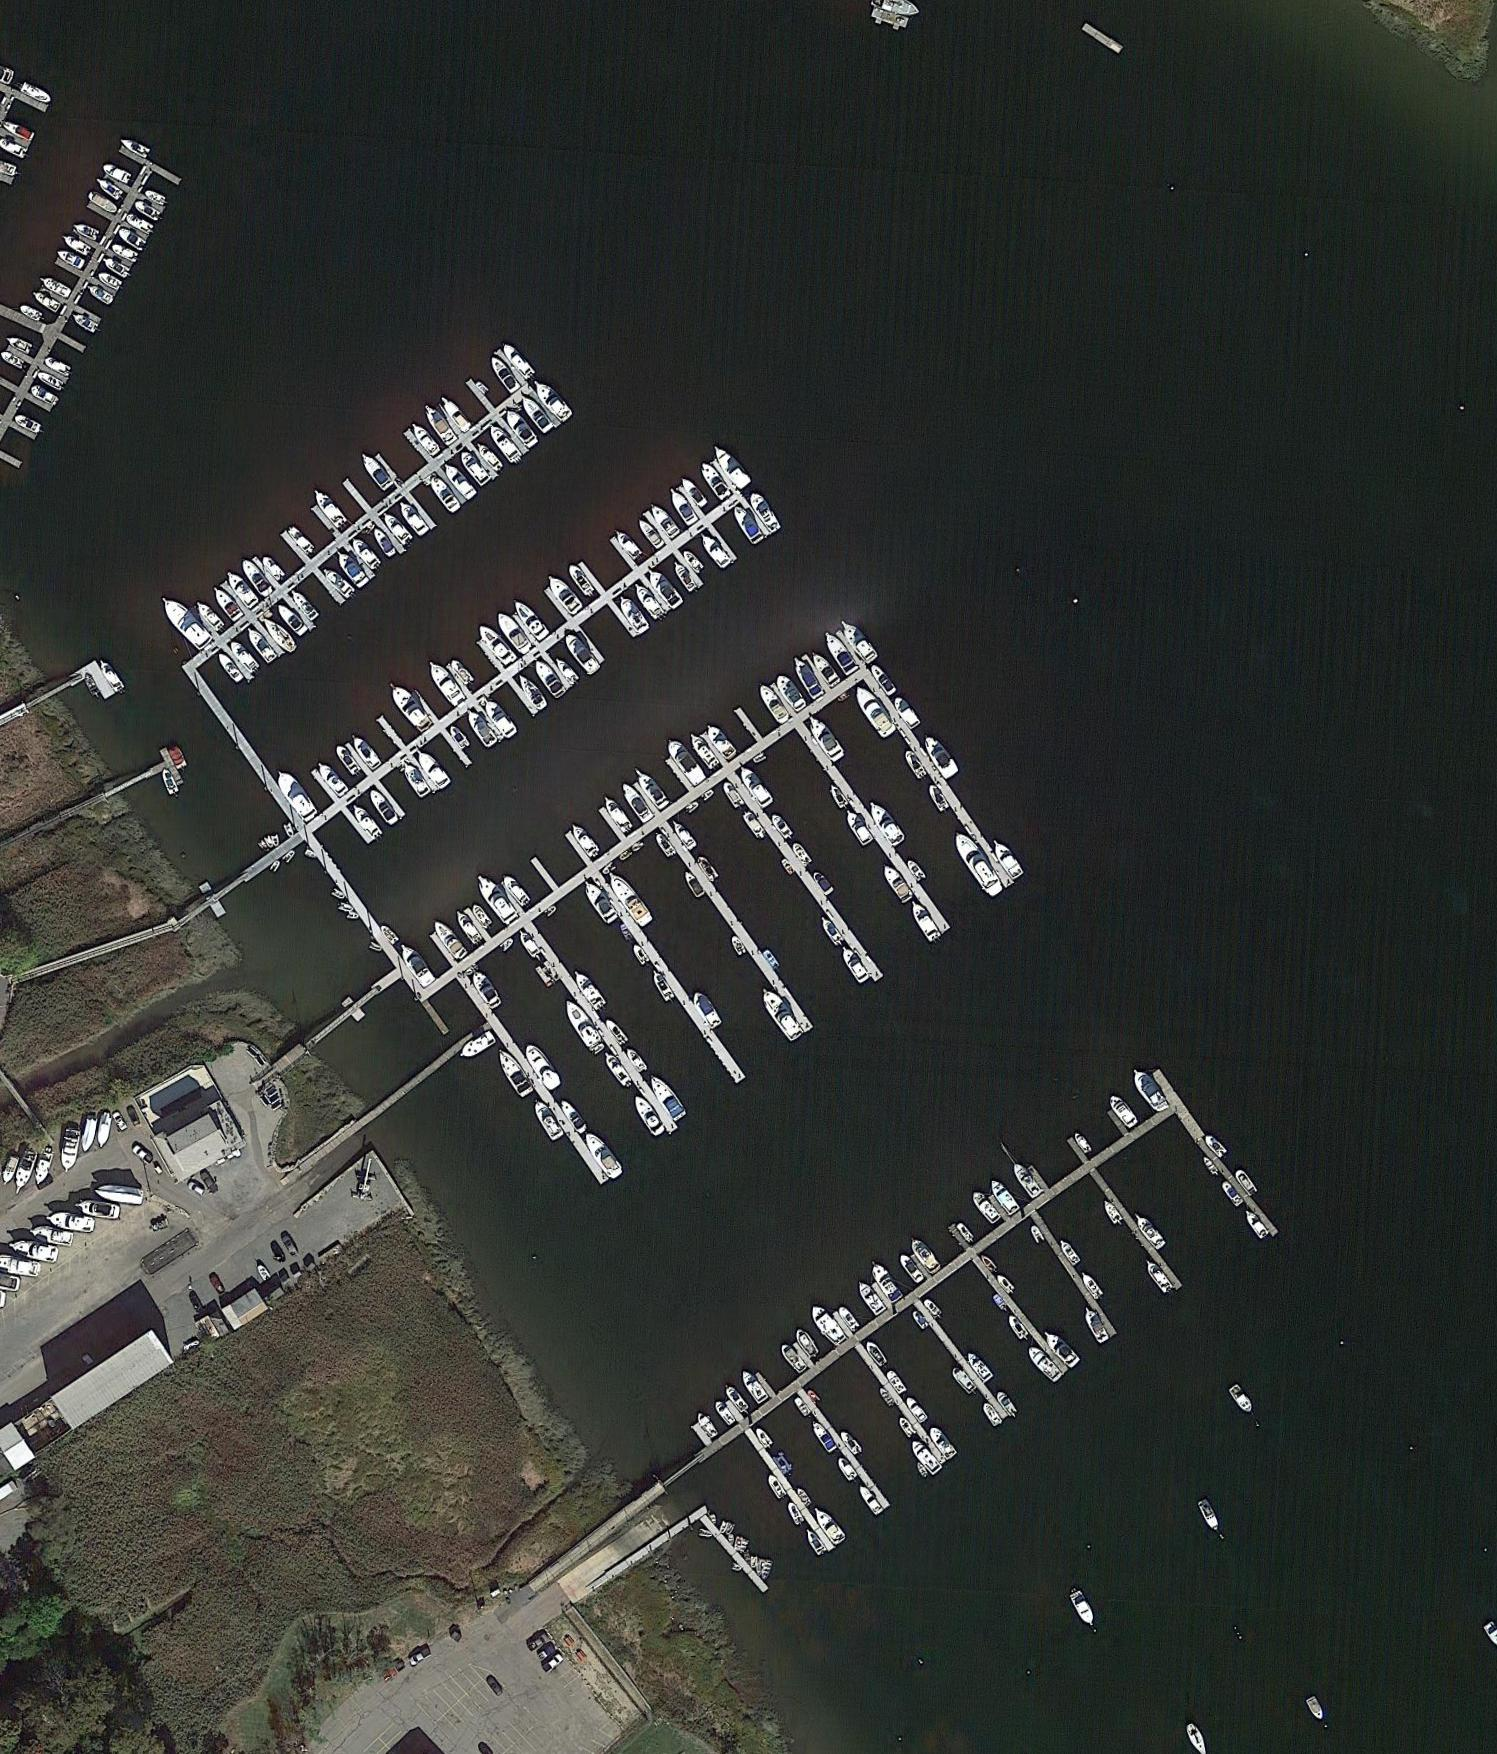harbor: (408, 627, 1014, 1209), (676, 1066, 1279, 1591), (284, 457, 769, 864), (169, 348, 561, 698), (1, 141, 184, 495)
ship: (948, 829, 1005, 899), (157, 593, 212, 651), (606, 870, 656, 931), (383, 677, 435, 735), (849, 682, 898, 741), (756, 985, 805, 1043), (560, 997, 607, 1056), (469, 870, 520, 925), (273, 768, 322, 824), (581, 1129, 627, 1182), (492, 1047, 538, 1099), (708, 440, 754, 492), (645, 1071, 689, 1124), (662, 737, 708, 787), (423, 656, 466, 708), (1127, 1063, 1170, 1115), (521, 1040, 563, 1093), (805, 711, 847, 765), (530, 374, 575, 423), (838, 615, 881, 665), (864, 798, 907, 848), (475, 619, 518, 668), (919, 731, 961, 781), (509, 596, 552, 643), (493, 609, 535, 656), (579, 878, 621, 925), (806, 1301, 848, 1349), (821, 628, 861, 677), (411, 744, 451, 792), (397, 942, 437, 989), (429, 916, 469, 962), (646, 566, 686, 612), (631, 765, 671, 811), (737, 762, 775, 809), (561, 633, 603, 676), (1041, 1326, 1083, 1369), (310, 486, 350, 530), (545, 572, 585, 616), (420, 402, 460, 447), (616, 780, 656, 824), (789, 655, 826, 702), (1023, 1343, 1063, 1386), (613, 593, 652, 637), (754, 682, 792, 728), (529, 1098, 566, 1144), (570, 965, 607, 1011), (867, 1259, 904, 1305), (989, 836, 1026, 882), (441, 459, 480, 502), (333, 547, 371, 590), (514, 668, 551, 713), (532, 656, 569, 701), (746, 492, 783, 536), (238, 555, 275, 600), (906, 899, 943, 943), (358, 451, 397, 493), (811, 1504, 848, 1548), (349, 798, 385, 842), (1132, 1207, 1167, 1252), (689, 988, 725, 1032), (633, 1092, 667, 1138), (481, 698, 518, 740), (697, 529, 734, 570), (224, 569, 261, 610), (503, 408, 541, 450), (486, 422, 523, 463), (244, 624, 281, 665), (348, 732, 385, 772), (313, 757, 350, 798), (774, 674, 811, 714), (697, 462, 734, 502), (500, 342, 538, 382), (261, 615, 299, 655), (907, 1436, 945, 1476), (463, 707, 499, 749), (365, 786, 401, 827), (600, 793, 636, 835), (1008, 1158, 1044, 1200), (808, 648, 844, 689), (878, 863, 913, 904), (731, 503, 765, 547), (7, 1237, 59, 1265), (1081, 22, 1126, 55), (428, 475, 463, 515), (395, 498, 431, 538), (704, 722, 740, 762), (520, 394, 555, 434), (631, 579, 665, 621), (469, 970, 503, 1011), (457, 447, 492, 489), (907, 1234, 942, 1276), (273, 601, 310, 639), (209, 584, 245, 622), (1141, 1256, 1176, 1295), (648, 501, 682, 541), (487, 353, 521, 394), (737, 1366, 771, 1406), (838, 945, 872, 985), (854, 1277, 888, 1317), (842, 806, 875, 848), (10, 1148, 39, 1196), (319, 566, 356, 601), (399, 760, 434, 799), (451, 907, 486, 946), (380, 508, 414, 547), (688, 732, 722, 771), (440, 395, 474, 434), (1106, 1093, 1141, 1132), (968, 1187, 1002, 1225), (988, 1176, 1020, 1216), (28, 1222, 76, 1249), (408, 420, 443, 457), (349, 535, 383, 572), (567, 821, 601, 858), (500, 870, 533, 909), (457, 1031, 498, 1062), (601, 1049, 633, 1089), (229, 637, 261, 674), (927, 1424, 959, 1461), (890, 694, 922, 731), (1066, 1588, 1098, 1626), (558, 1098, 590, 1136), (288, 587, 321, 622), (962, 1349, 995, 1384), (214, 648, 245, 685), (808, 1418, 839, 1455), (94, 1184, 144, 1206), (634, 515, 667, 550), (668, 817, 699, 852), (867, 662, 898, 698), (567, 561, 597, 599), (97, 656, 126, 694), (48, 1210, 97, 1233), (867, 7, 910, 33), (1083, 1305, 1109, 1346), (195, 599, 226, 633), (59, 1127, 82, 1173), (855, 1484, 887, 1516), (333, 743, 362, 777), (613, 527, 643, 561), (679, 475, 708, 509), (475, 440, 505, 474), (817, 913, 847, 948), (1227, 1383, 1256, 1415), (780, 1343, 809, 1375), (897, 1252, 927, 1285), (900, 749, 930, 781), (1196, 1499, 1224, 1533), (76, 1199, 122, 1219), (39, 273, 74, 300), (33, 1147, 56, 1187), (287, 524, 316, 555), (949, 1363, 979, 1395), (371, 526, 399, 558), (670, 560, 698, 593), (719, 778, 747, 811), (1242, 1207, 1270, 1240), (793, 1326, 821, 1359), (740, 808, 768, 841), (861, 1337, 890, 1369), (86, 189, 120, 215), (649, 968, 676, 1002), (449, 656, 477, 688), (30, 288, 62, 315), (1184, 1721, 1210, 1754), (1, 117, 36, 143), (533, 959, 561, 989), (722, 1384, 750, 1414), (446, 720, 472, 752), (1233, 1167, 1259, 1199), (603, 1016, 630, 1047), (59, 232, 92, 257), (19, 80, 53, 104), (554, 655, 581, 685), (117, 226, 147, 252), (260, 554, 287, 584), (838, 1427, 864, 1457), (925, 783, 952, 812), (30, 382, 61, 407), (1080, 1268, 1105, 1300), (624, 1044, 649, 1075), (695, 1409, 720, 1441), (769, 809, 795, 841), (80, 1114, 100, 1154), (517, 928, 542, 958), (101, 254, 131, 279), (102, 160, 132, 186), (1219, 1179, 1245, 1209), (994, 1389, 1019, 1418), (904, 1395, 930, 1424), (711, 1398, 737, 1427), (695, 854, 720, 884), (803, 1527, 829, 1556), (1057, 1239, 1083, 1268), (56, 247, 88, 270), (119, 137, 151, 159), (1203, 1132, 1230, 1158), (469, 902, 495, 930), (71, 310, 100, 336), (835, 1455, 860, 1484), (1005, 1311, 1031, 1340), (884, 1368, 909, 1396), (653, 832, 679, 860), (682, 870, 707, 899), (811, 869, 836, 897), (36, 368, 65, 392), (94, 177, 123, 200), (134, 198, 163, 221), (838, 1304, 861, 1334), (771, 1451, 796, 1478), (45, 355, 74, 377), (13, 413, 43, 435), (110, 241, 140, 263), (125, 212, 154, 235), (71, 218, 101, 241), (4, 334, 36, 355), (1100, 1200, 1126, 1225), (682, 548, 705, 575), (88, 284, 114, 307), (97, 269, 123, 293), (982, 1402, 1005, 1429), (827, 783, 851, 809), (1305, 1695, 1328, 1723), (790, 841, 812, 869), (766, 1473, 789, 1500), (906, 857, 928, 884), (18, 301, 46, 322), (160, 766, 180, 796), (1, 1155, 19, 1187), (97, 1111, 111, 1148), (379, 922, 401, 946), (166, 746, 187, 771), (1072, 1130, 1093, 1155), (786, 1500, 806, 1525), (896, 1415, 916, 1439), (995, 1271, 1016, 1295), (754, 1426, 775, 1450), (631, 942, 652, 965), (955, 1219, 976, 1243), (1, 351, 27, 370), (922, 1297, 943, 1319), (143, 187, 166, 206), (762, 948, 781, 971), (979, 1252, 999, 1273), (910, 1308, 930, 1331), (793, 1395, 812, 1417), (729, 934, 748, 956), (878, 1387, 897, 1408), (795, 1485, 812, 1507), (1028, 1222, 1046, 1245), (83, 674, 100, 697), (1201, 1155, 1219, 1175), (780, 858, 799, 876), (616, 924, 636, 942), (805, 1389, 823, 1405), (255, 1264, 272, 1282), (992, 1294, 1008, 1311), (682, 799, 699, 815), (599, 861, 618, 876), (699, 789, 716, 805), (474, 380, 490, 397), (498, 936, 514, 952), (915, 1461, 930, 1478), (835, 689, 851, 704), (281, 850, 297, 864), (330, 887, 346, 902), (751, 752, 769, 765), (760, 1561, 774, 1579), (542, 903, 557, 918), (616, 850, 633, 863), (267, 858, 281, 875), (368, 940, 383, 953), (284, 821, 296, 838), (337, 902, 353, 913), (630, 841, 645, 852), (717, 1521, 729, 1536), (740, 1539, 751, 1554), (263, 835, 275, 850), (345, 910, 361, 921), (725, 1522, 735, 1536), (258, 839, 269, 852), (304, 850, 318, 860), (734, 1539, 743, 1554), (270, 836, 281, 848), (748, 1555, 757, 1568), (708, 1513, 717, 1525), (699, 1530, 711, 1539), (731, 1562, 743, 1571), (728, 1536, 734, 1545)
